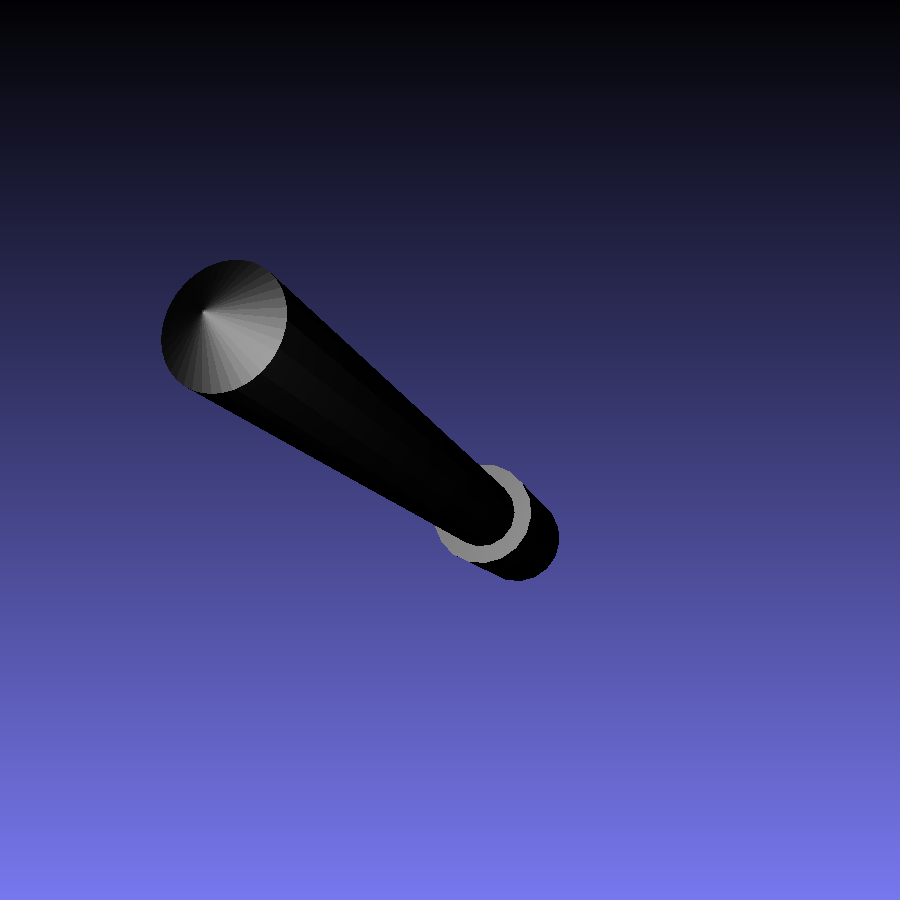cargo_g: (158, 261, 562, 582)
